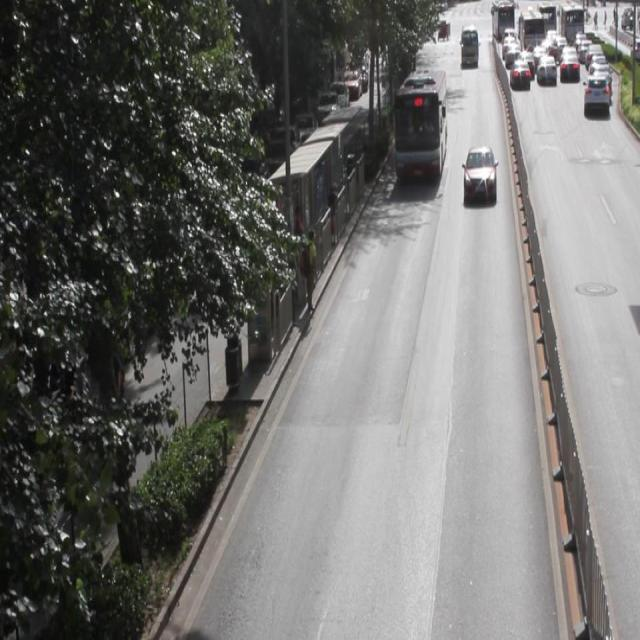car: (462, 144, 494, 197)
van: (394, 70, 445, 182)
